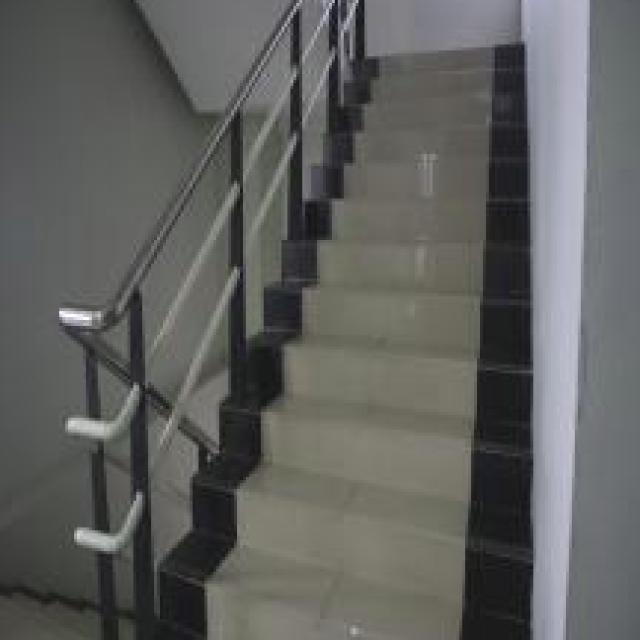upstair: (249, 344, 522, 640)
